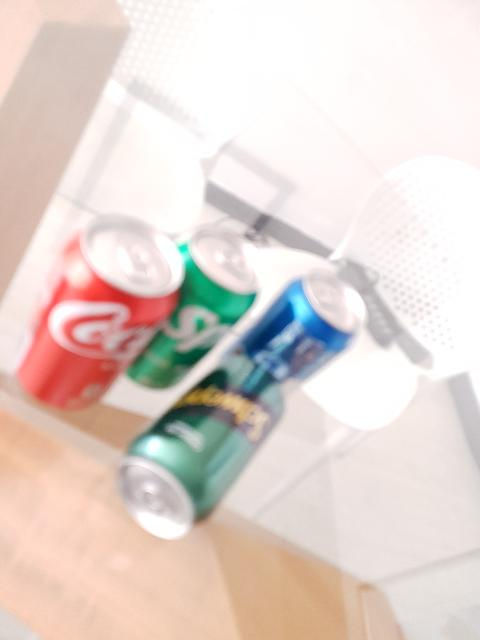coke: (18, 214, 168, 422)
pepsi: (228, 270, 370, 382)
schweppes: (118, 360, 283, 540)
sprite: (126, 229, 258, 391)
